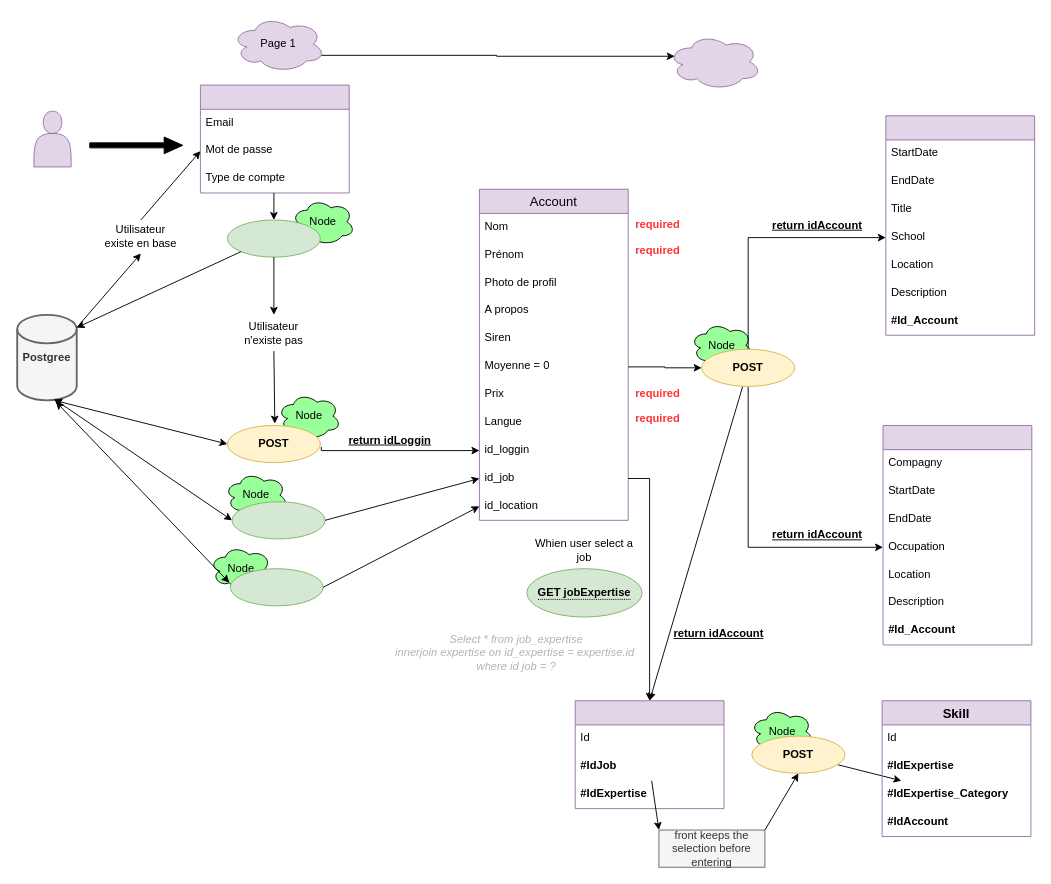
The diagram is 1051 pixels wide and 884 high, and some of its shapes have lost their labels. The shapes that lost their labels are listed below. From the top down, each one's box as (x1, y1, x2, y2) in pixels, then its label:
(667, 33, 761, 90): Page 2
(199, 84, 349, 193): Loggin
(226, 219, 320, 257): GET queryparams
(885, 115, 1035, 335): Graduation
(231, 501, 325, 539): GET jobs
(882, 425, 1032, 645): Experience
(229, 568, 323, 606): GET locations
(574, 700, 724, 809): Job_Expertise
